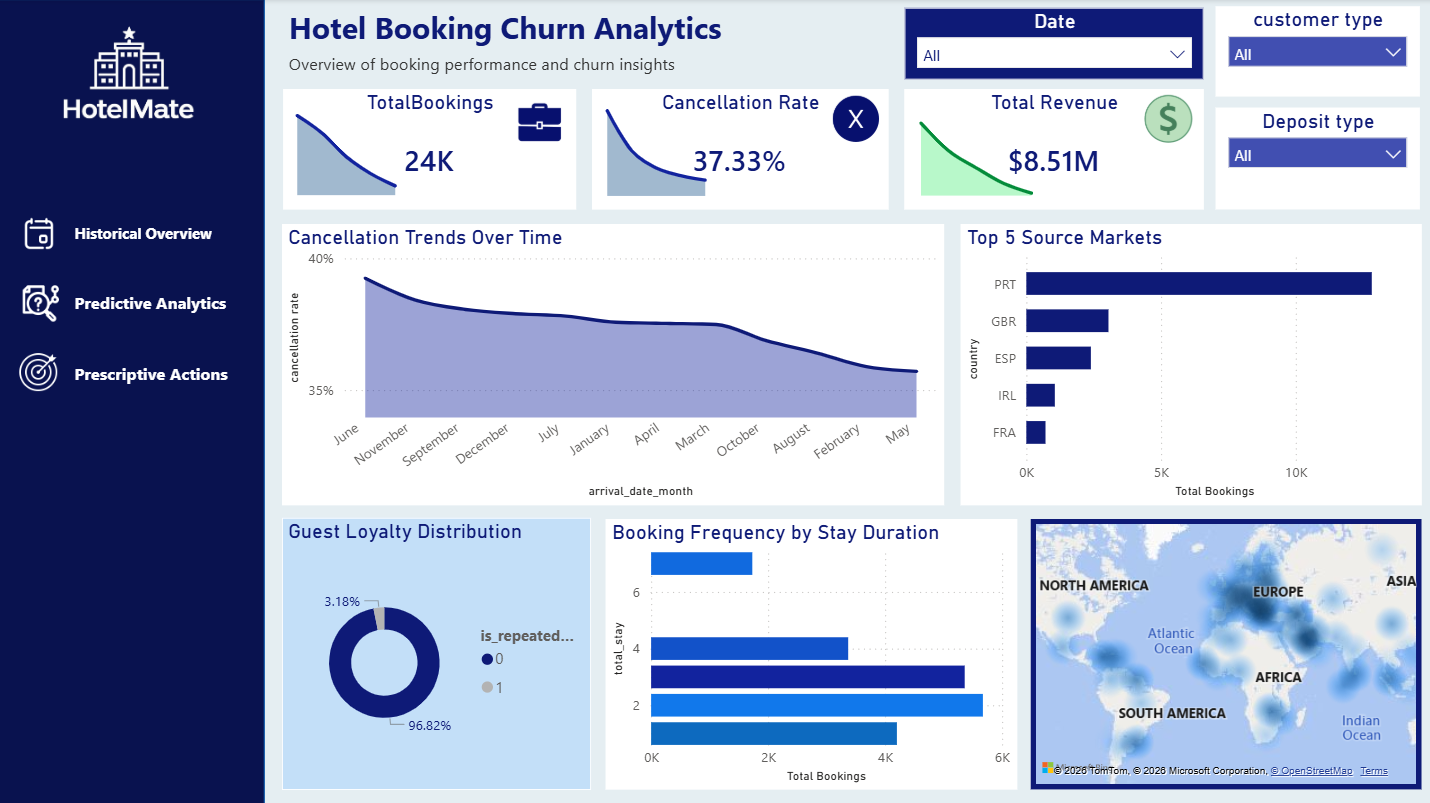

What the dashboard file says about the page in this screenshot:
{"tool":"powerbi","page":{"name":"Historical Overview","canvas":[1280,720],"ordinal":0},"visuals":[{"type":"shape","box":[0,0,238.6,720],"z":0},{"type":"cardVisual","title":"Cancellation Rate","fields":{"Data":["week3_model_predictions.cancellation rate"]},"box":[529.7,80.3,263.6,107.4],"z":1000},{"type":"cardVisual","title":"Total Revenue ","fields":{"Data":["week3_model_predictions.Measure"]},"box":[807.9,80.3,266.1,107.4],"z":2000},{"type":"areaChart","title":"Cancellation Trends Over Time","fields":{"Category":["week3_model_predictions.arrival_date_month"],"Y":["week3_model_predictions.cancellation rate"]},"box":[254.2,200.8,589.3,250.3],"z":3000},{"type":"donutChart","title":"Guest Loyalty Distribution","fields":{"Category":["week3_model_predictions.is_repeated_guest"],"Y":["CountNonNull(week3_model_predictions.is_repeated_guest)"]},"box":[254.2,461.5,275.1,242.5],"z":4000},{"type":"clusteredBarChart","title":"Booking Frequency by Stay Duration","fields":{"Category":["week3_model_predictions.total_stay"],"Y":["cleaned_hotel_bookings.Total Bookings"]},"box":[542.4,462.8,366.3,241.2],"z":5000},{"type":"cardVisual","title":"TotalBookings","fields":{"Data":["cleaned_hotel_bookings.Total Bookings"]},"box":[254.4,80.6,260.6,107.4],"z":6000},{"type":"clusteredBarChart","title":"Top 5 Source Markets","fields":{"Category":["week3_model_predictions.country"],"Y":["cleaned_hotel_bookings.Total Bookings"]},"box":[857.9,200.8,410.7,250.3],"z":7000},{"type":"pageNavigator","box":[69.2,183.3,156.7,176.9],"z":8000},{"type":"image","box":[15.2,15.2,211.1,115],"z":9000},{"type":"image","box":[7.3,192.1,59.4,34.1],"z":10000},{"type":"image","box":[7.3,252.8,61.9,36.7],"z":11000},{"type":"image","box":[6.1,313.4,61.9,36.7],"z":12000},{"type":"textbox","box":[254.4,2.2,511.8,55.6],"z":13000},{"type":"textbox","box":[254.4,42,511.5,55.5],"z":14000},{"type":"stackedAreaChart","fields":{"Y":["cleaned_hotel_bookings.Total Bookings"],"Category":["week3_model_predictions.arrival_date_month"]},"box":[253.9,84,114.7,96.4],"z":15000},{"type":"stackedAreaChart","fields":{"Y":["week3_model_predictions.Total Revenue"],"Category":["week3_model_predictions.arrival_date_month"]},"box":[807.9,66.9,128.1,113.5],"z":16000},{"type":"stackedAreaChart","fields":{"Y":["Avg(week3_model_predictions.Actual_Is_Canceled)"],"Category":["week3_model_predictions.arrival_date_month"]},"box":[529.7,74.2,114.7,106.2],"z":17000},{"type":"slicer","title":"Deposit type","fields":{"Values":["week3_model_predictions.deposit_type"]},"box":[1085.7,97.1,181.4,90],"z":18000},{"type":"image","box":[461.3,87.7,45.2,46.4],"z":19000},{"type":"image","box":[742,84,45.2,46.4],"z":20000},{"type":"image","box":[1020.3,84,45.2,46.4],"z":21000},{"type":"map","fields":{"Category":["week3_model_predictions.country"],"Size":["week3_model_predictions.cancellation rate"]},"box":[920.4,462.8,348.1,241.2],"z":22000},{"type":"slicer","title":"customer type","fields":{"Values":["week3_model_predictions.customer_type"]},"box":[1085.7,7.1,181.4,80],"z":23000},{"type":"slicer","title":"Date","fields":{"Values":["week3_model_predictions.reservation_status_date.Variation.Date Hierarchy.Year","week3_model_predictions.reservation_status_date.Variation.Date Hierarchy.Quarter","week3_model_predictions.reservation_status_date.Variation.Date Hierarchy.Month","week3_model_predictions.reservation_status_date.Variation.Date Hierarchy.Day"]},"box":[808.1,7.6,266.4,64.4],"z":24000}]}

Visuals, with their boxes in screenshot pixels (x1, y1, x2, y2), scaled from the page's 1280x720 canvas onto the 1430x803 screenshot:
shape: x1=0, y1=0, x2=267, y2=802
"Cancellation Rate" cardVisual: x1=592, y1=90, x2=886, y2=209
"Total Revenue " cardVisual: x1=903, y1=90, x2=1200, y2=209
"Cancellation Trends Over Time" areaChart: x1=284, y1=224, x2=942, y2=503
"Guest Loyalty Distribution" donutChart: x1=284, y1=515, x2=591, y2=785
"Booking Frequency by Stay Duration" clusteredBarChart: x1=606, y1=516, x2=1015, y2=785
"TotalBookings" cardVisual: x1=284, y1=90, x2=575, y2=210
"Top 5 Source Markets" clusteredBarChart: x1=958, y1=224, x2=1417, y2=503
pageNavigator: x1=77, y1=204, x2=252, y2=402
image: x1=17, y1=17, x2=253, y2=145
image: x1=8, y1=214, x2=75, y2=252
image: x1=8, y1=282, x2=77, y2=323
image: x1=7, y1=350, x2=76, y2=390
textbox: x1=284, y1=2, x2=856, y2=64
textbox: x1=284, y1=47, x2=856, y2=109
stackedAreaChart - cleaned_hotel_bookings.Total Bookings x week3_model_predictions.arrival_date_month: x1=284, y1=94, x2=412, y2=201
stackedAreaChart - week3_model_predictions.Total Revenue x week3_model_predictions.arrival_date_month: x1=903, y1=75, x2=1046, y2=201
stackedAreaChart - Avg(week3_model_predictions.Actual_Is_Canceled) x week3_model_predictions.arrival_date_month: x1=592, y1=83, x2=720, y2=201
"Deposit type" slicer: x1=1213, y1=108, x2=1416, y2=209
image: x1=515, y1=98, x2=566, y2=150
image: x1=829, y1=94, x2=879, y2=145
image: x1=1140, y1=94, x2=1190, y2=145
map - week3_model_predictions.country x week3_model_predictions.cancellation rate: x1=1028, y1=516, x2=1417, y2=785
"customer type" slicer: x1=1213, y1=8, x2=1416, y2=97
"Date" slicer: x1=903, y1=8, x2=1200, y2=80
